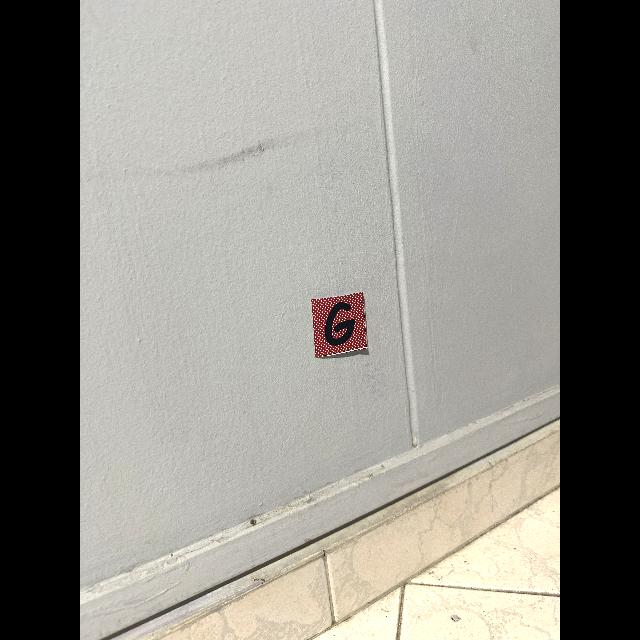G: (325, 302, 355, 345)
